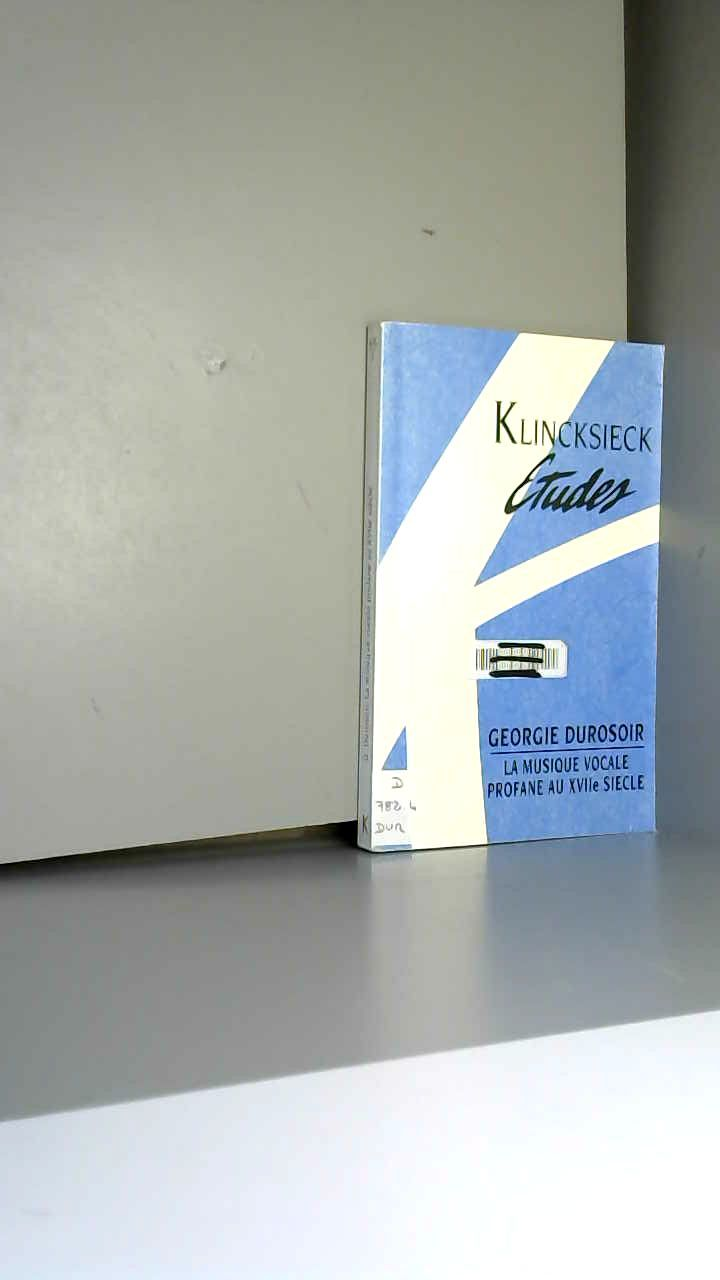book: (350, 310, 720, 943)
